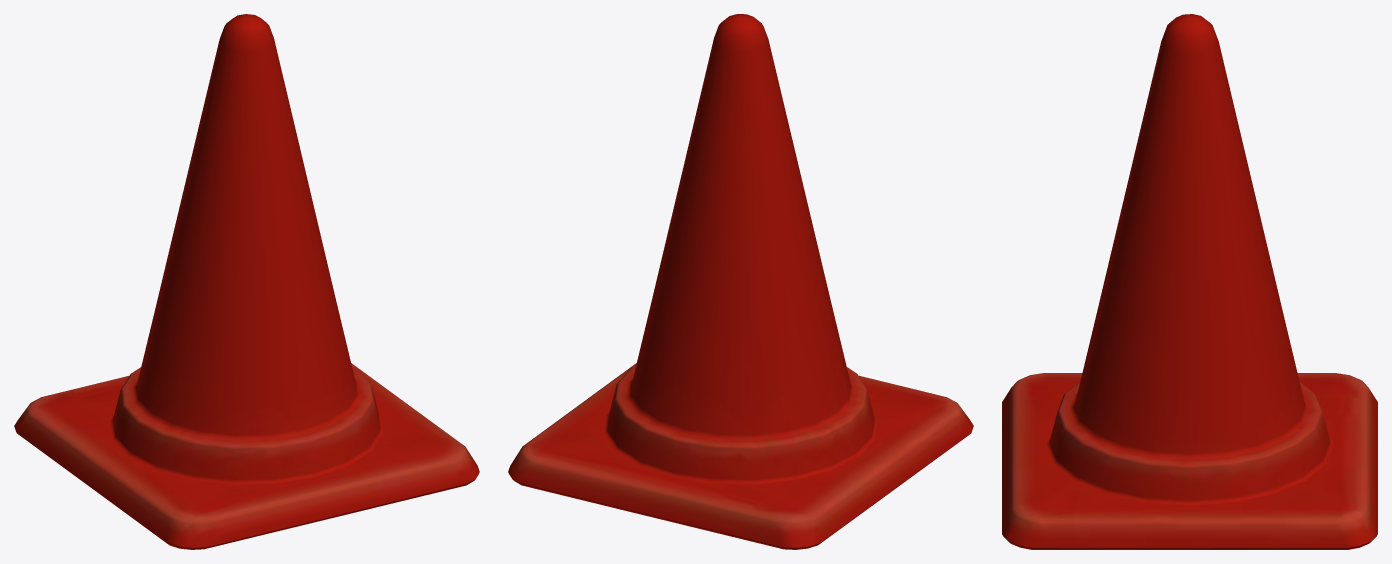
3 renders of one model, left to right at view 1: azimuth 30°, elevation 25°; view 2: azimuth 150°, elevation 25°; view 3: azimuth 270°, elevation 25°, orthographic. The views are drawn at different scales.
Size of the model in its own units: 6.32 by 8.46 by 6.32.
1 material, 1 textured.
